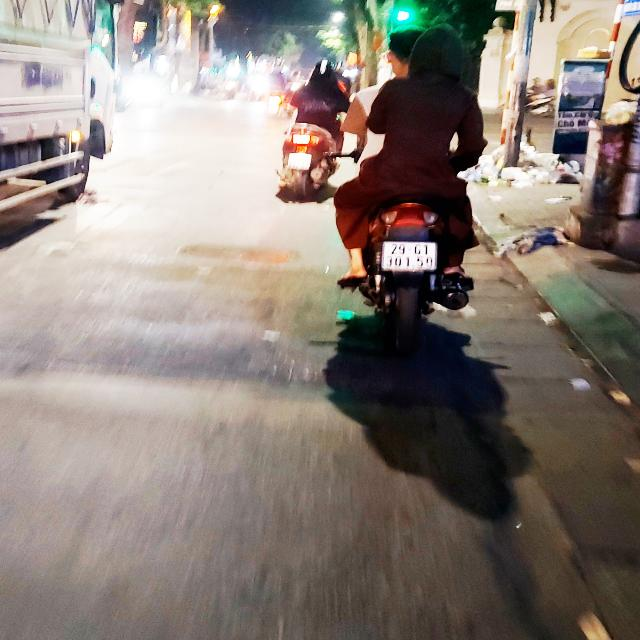license_plate: (382, 242, 439, 274)
